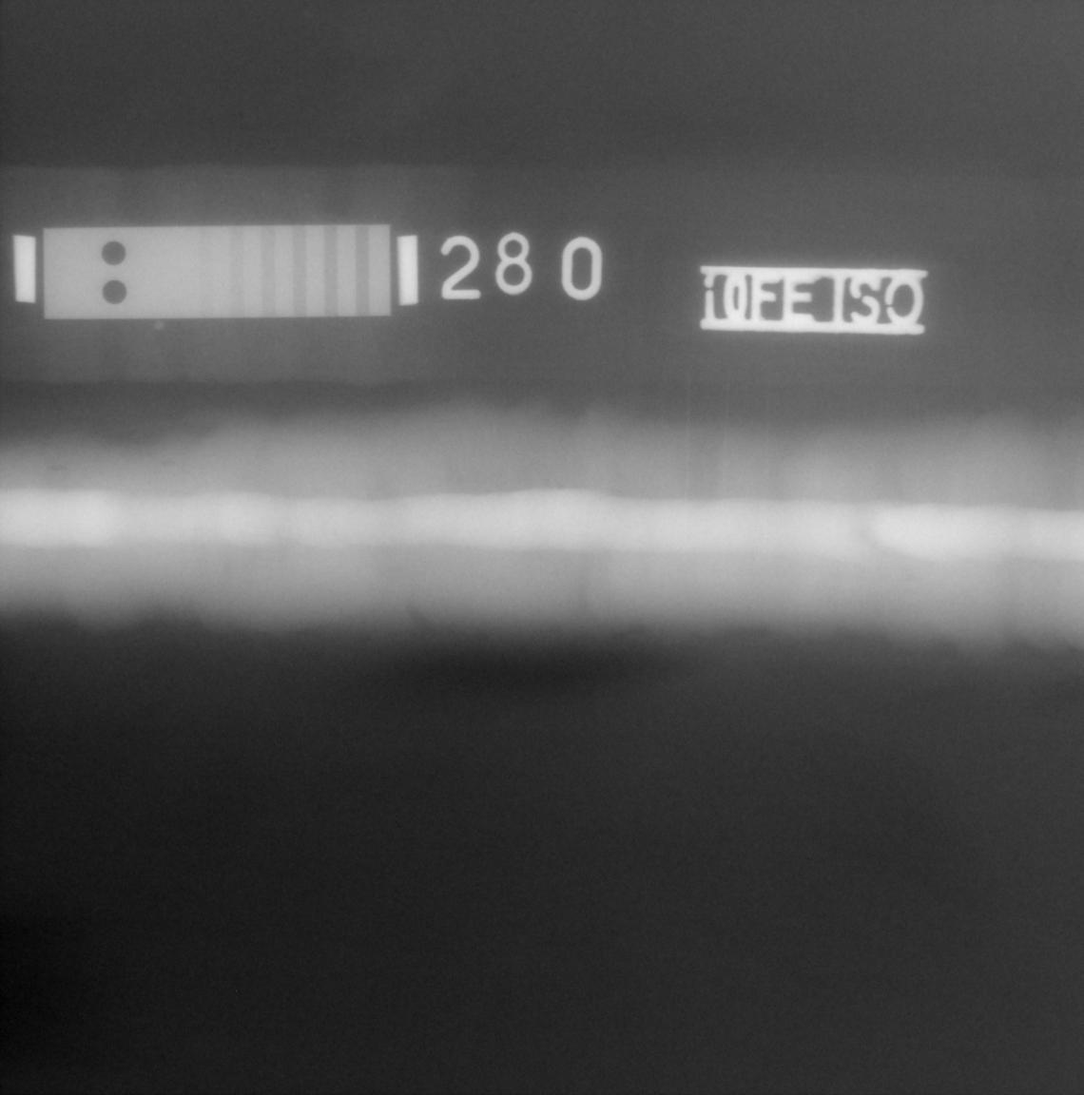Inclusion: (49, 466, 69, 471), (160, 461, 174, 467)
Reference Standard 2: (43, 224, 391, 319)
